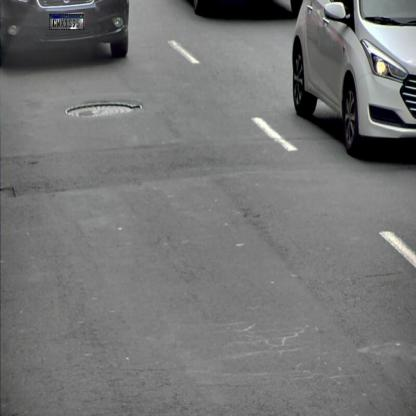PlacaM: (49, 14, 84, 30)
